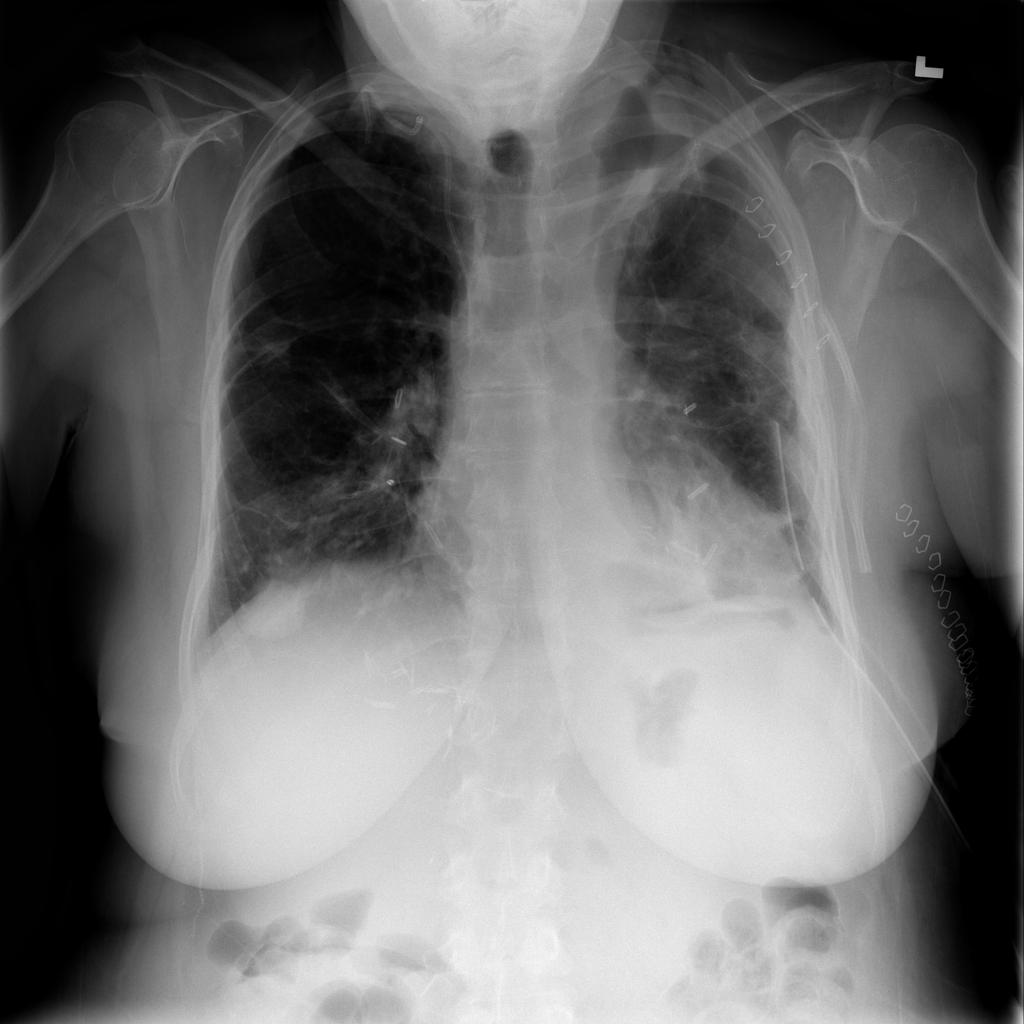nodule: (226, 542, 331, 655)
